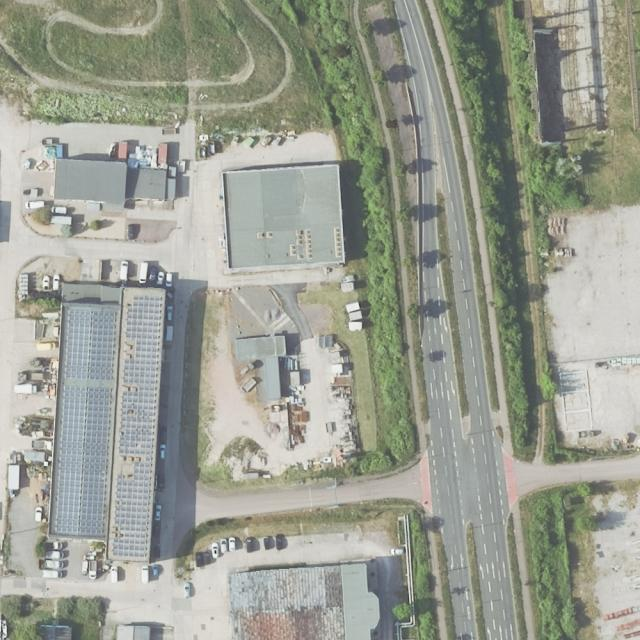PV: (112, 295, 161, 558), (54, 385, 111, 535), (64, 309, 116, 381)
